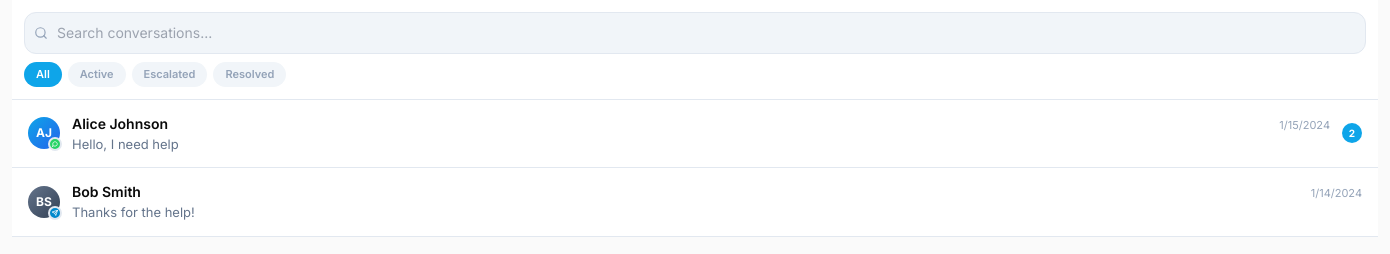
Test: ChatList › filters conversations by search term
In the field with placeholder "Search conversations...": (695, 33) [24,12,1366,54], type "Alice"
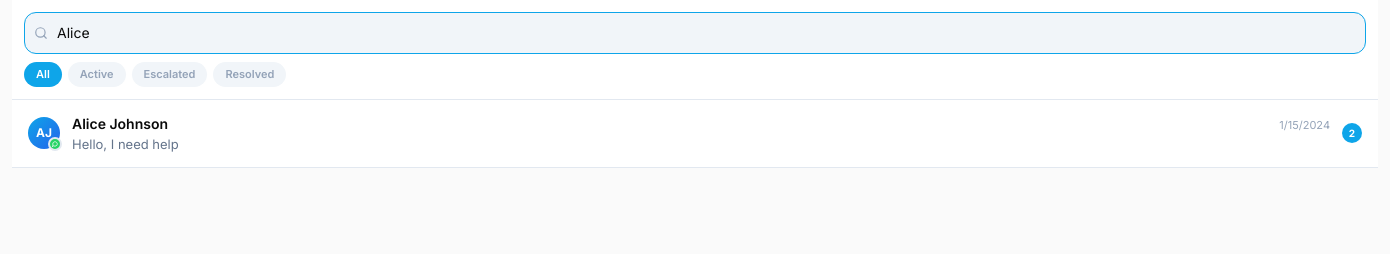
Expected: the text "Alice Johnson" is shown, [72,114,168,134]
Expected: the button "Bob Smith" is gone
